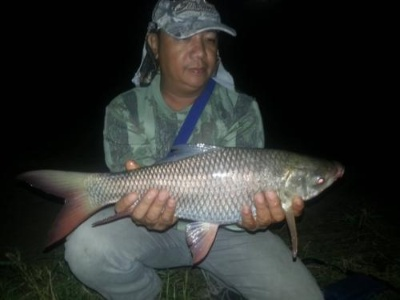rohu: (18, 146, 354, 257)
